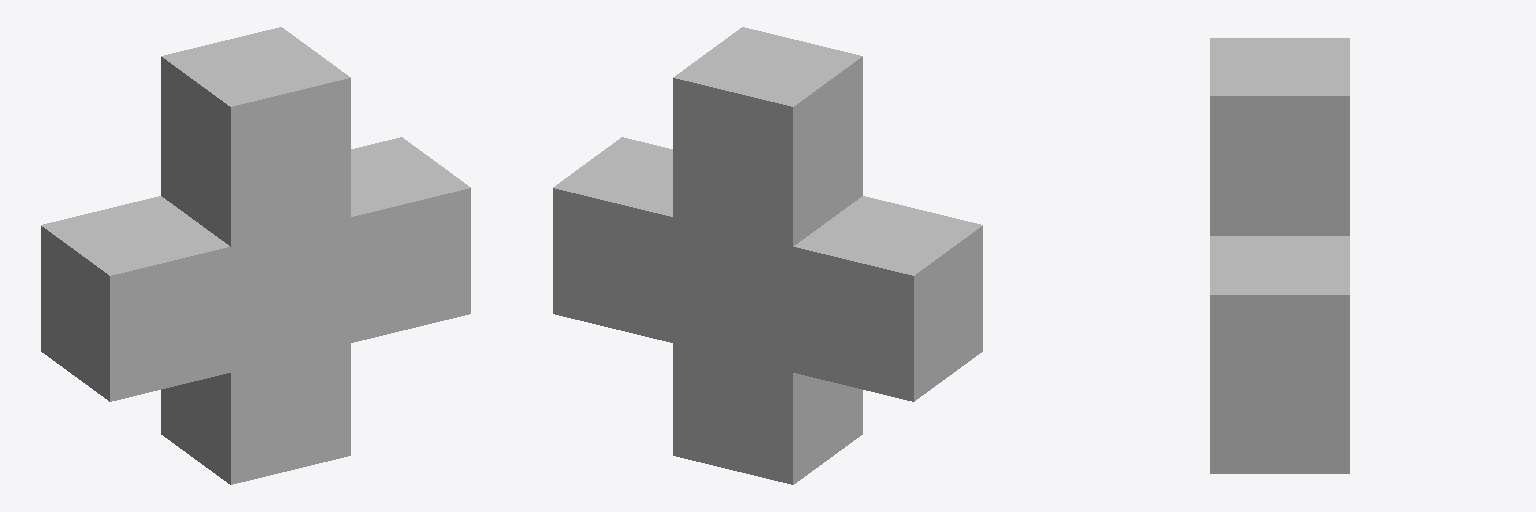
File: Health.obj
The picture shows the model from 3 angles: view 1: azimuth 30°, elevation 25°; view 2: azimuth 150°, elevation 25°; view 3: azimuth 270°, elevation 25°; orthographic projection.
Parts seen in each view (by area): view 1: pCube2; view 2: pCube2; view 3: pCube2.
Part boxes in pixels (x1,y1,x2,y2): pCube2: (41, 27, 470, 484); pCube2: (553, 27, 982, 484); pCube2: (1210, 38, 1349, 473).
Bounding box in the file's own units: 1.2 × 1.2 × 0.4.